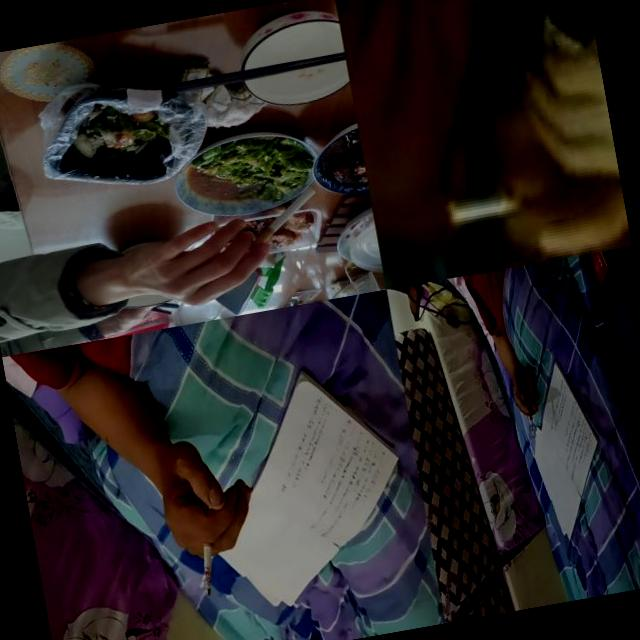smoke: (236, 185, 324, 255), (448, 190, 524, 232), (193, 528, 224, 596), (526, 402, 534, 431)
